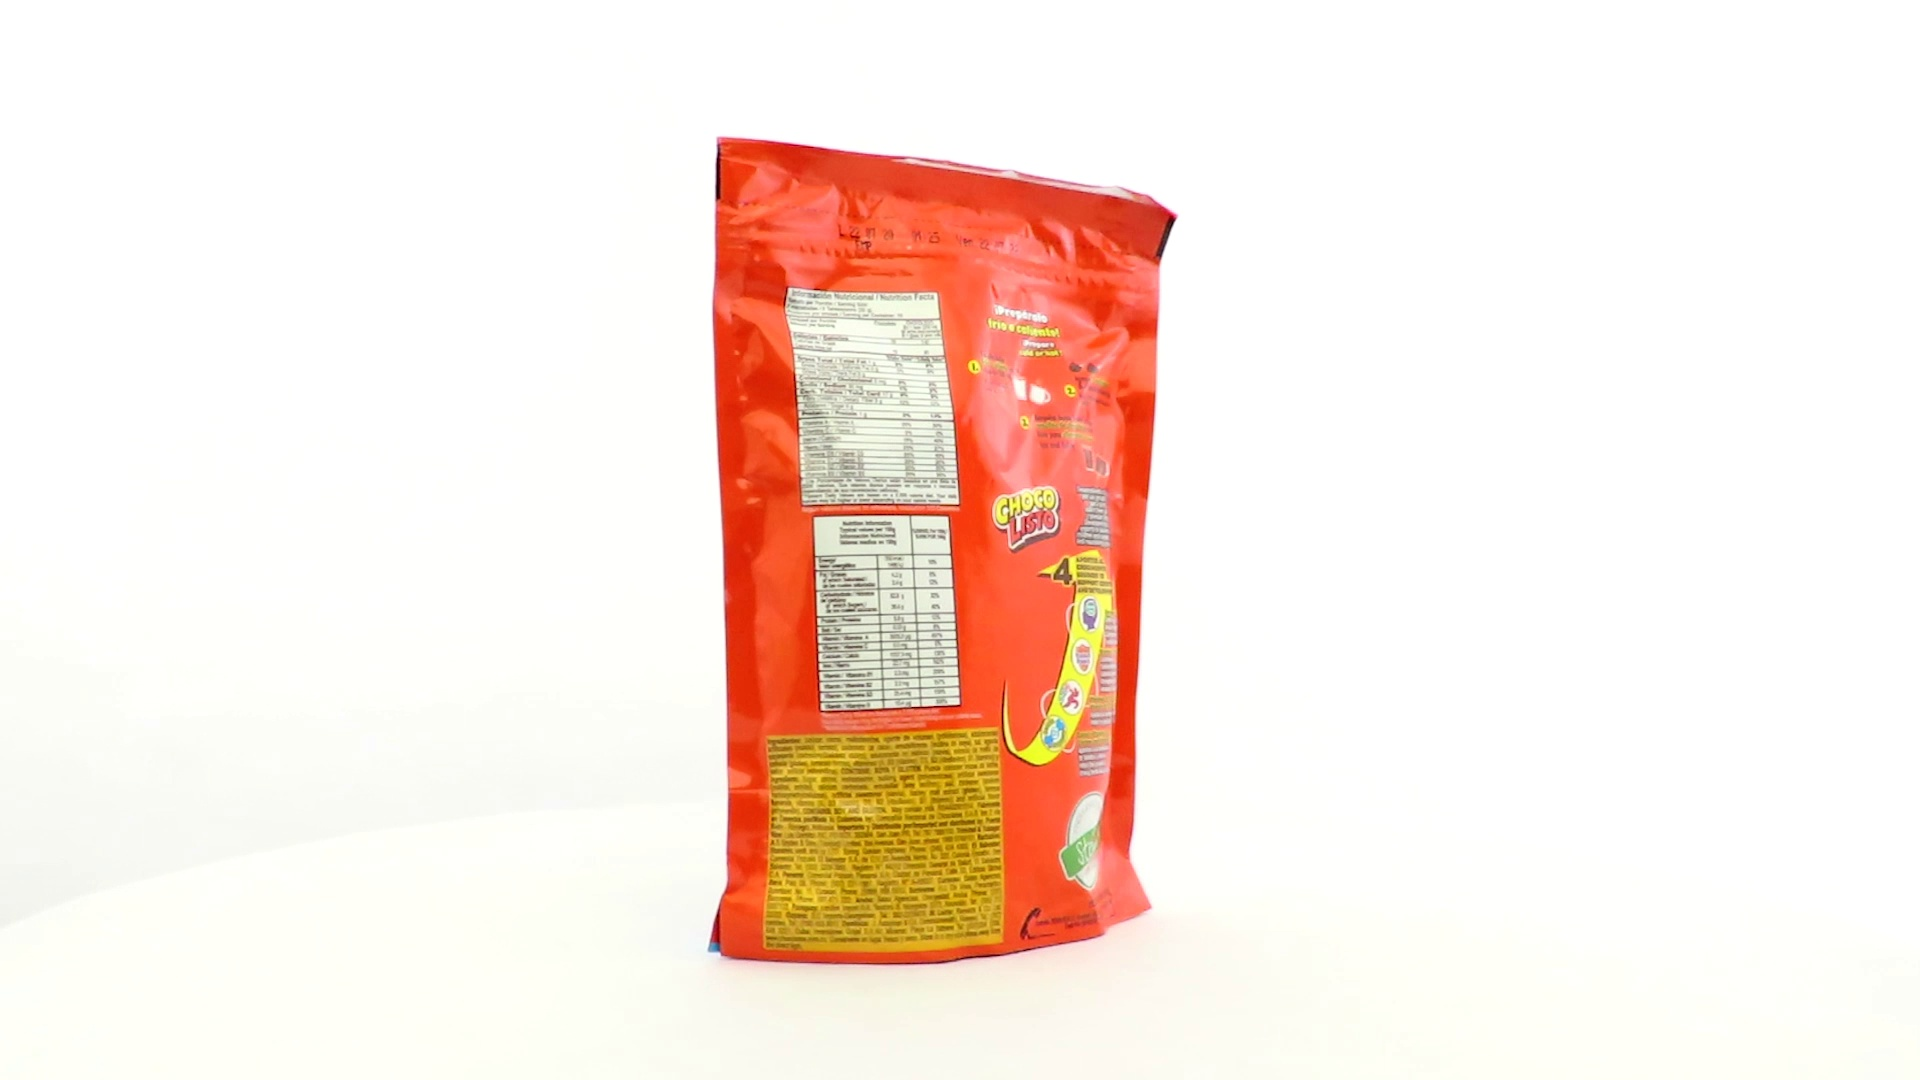COL0170104DYP20000: (702, 131, 1183, 971)
